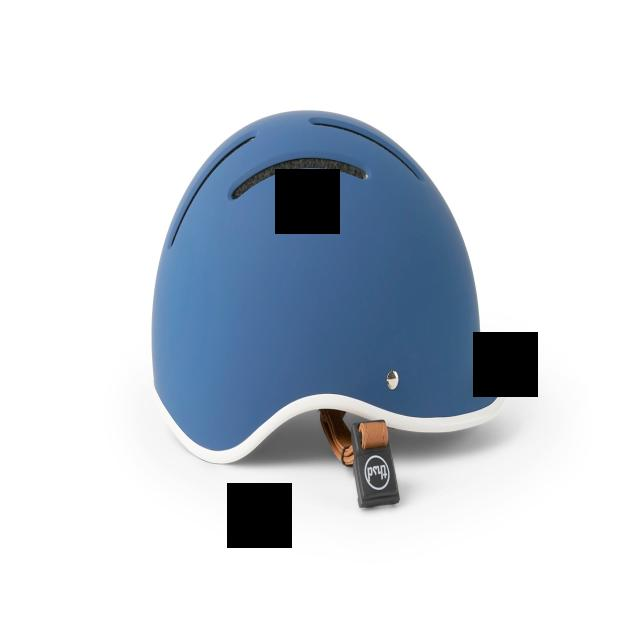Helmet: (110, 102, 534, 469)
